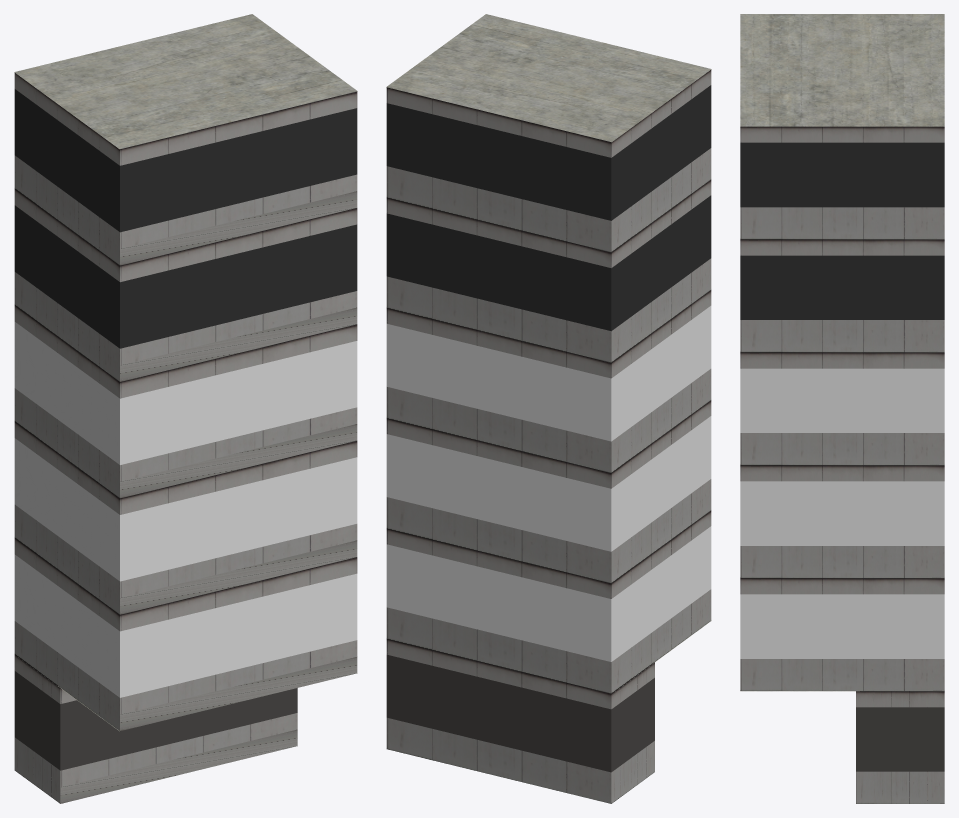
Rendered from building_b.fbx.
3 views of the same model, side by side, from view 1: azimuth 30°, elevation 25°; view 2: azimuth 150°, elevation 25°; view 3: azimuth 270°, elevation 25° (orthographic). The views are drawn at different scales.
Visible parts, largest first — view 1: ガラス (×5), 外壁 (×5), 上, ポリゴンメッシュ; view 2: ガラス (×5), 外壁 (×5), ポリゴンメッシュ, 上; view 3: ガラス (×5), 外壁 (×5), 上, ポリゴンメッシュ.
Part boxes in pixels (x1=…): ガラス (×5): x1=14, y1=89, x2=357, y2=697; 外壁 (×5): x1=14, y1=73, x2=357, y2=730; 上: x1=14, y1=14, x2=357, y2=149; ポリゴンメッシュ: x1=14, y1=654, x2=297, y2=803; ガラス (×5): x1=386, y1=85, x2=711, y2=661; 外壁 (×5): x1=386, y1=70, x2=711, y2=693; ポリゴンメッシュ: x1=386, y1=639, x2=654, y2=803; 上: x1=386, y1=14, x2=711, y2=142; ガラス (×5): x1=740, y1=142, x2=944, y2=658; 外壁 (×5): x1=740, y1=126, x2=944, y2=690; 上: x1=740, y1=14, x2=944, y2=126; ポリゴンメッシュ: x1=856, y1=691, x2=944, y2=803.
Bounding box in the file's own units: 150 × 420 × 115.
85 materials, 33 textured.
